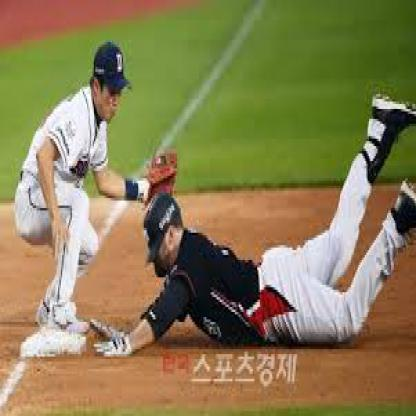Fall_Down: (87, 90, 414, 367)
